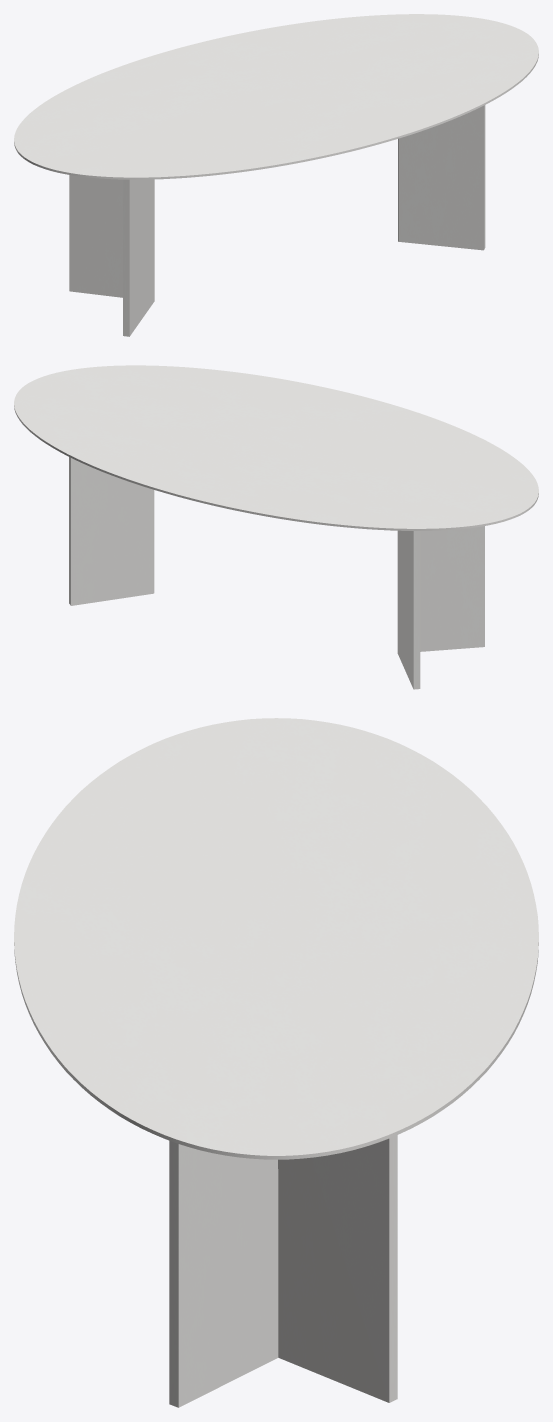
The model's file is purewhite_ellips_facet_valleyv.glb.
3 views of the same model, one above another, from view 1: azimuth 30°, elevation 25°; view 2: azimuth 150°, elevation 25°; view 3: azimuth 270°, elevation 25° (orthographic). The views are drawn at different scales.
Parts seen in each view (by area): view 1: facet_ellips, valleyv; view 2: facet_ellips, valleyv; view 3: facet_ellips, valleyv.
Boxes of the visible parts, x1,y1,x2,y2 form: facet_ellips: [14, 14, 538, 179]; valleyv: [69, 105, 485, 336]; facet_ellips: [14, 365, 538, 530]; valleyv: [69, 457, 484, 689]; facet_ellips: [14, 718, 538, 1159]; valleyv: [169, 1135, 397, 1407].
Size of the model in its own units: 7.5 by 2.5 by 3.8.
1 material, 1 textured.
